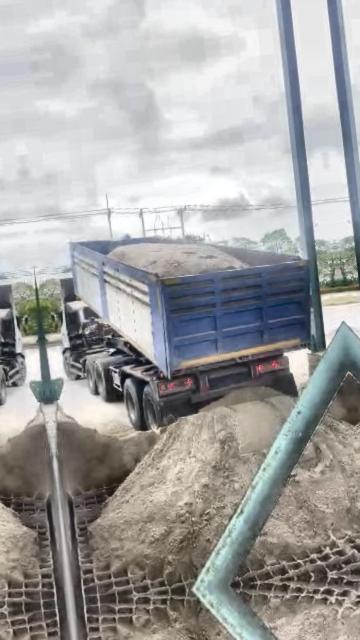sand: (91, 389, 293, 579), (250, 416, 360, 566), (58, 417, 158, 495), (108, 242, 247, 277), (328, 372, 355, 425)
